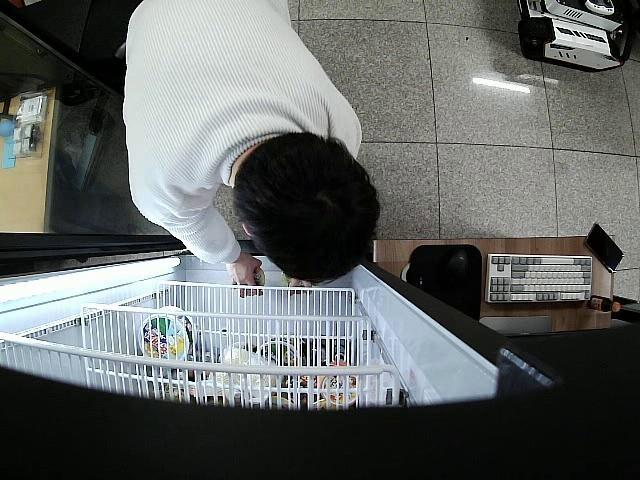04_chapagetti_S: (248, 268, 265, 296)
